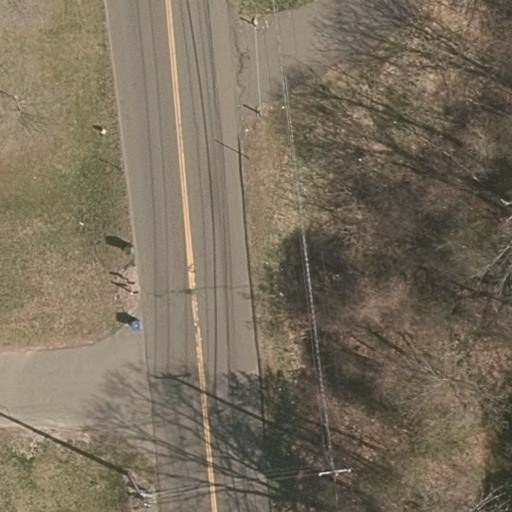DT: (318, 465, 352, 479)
